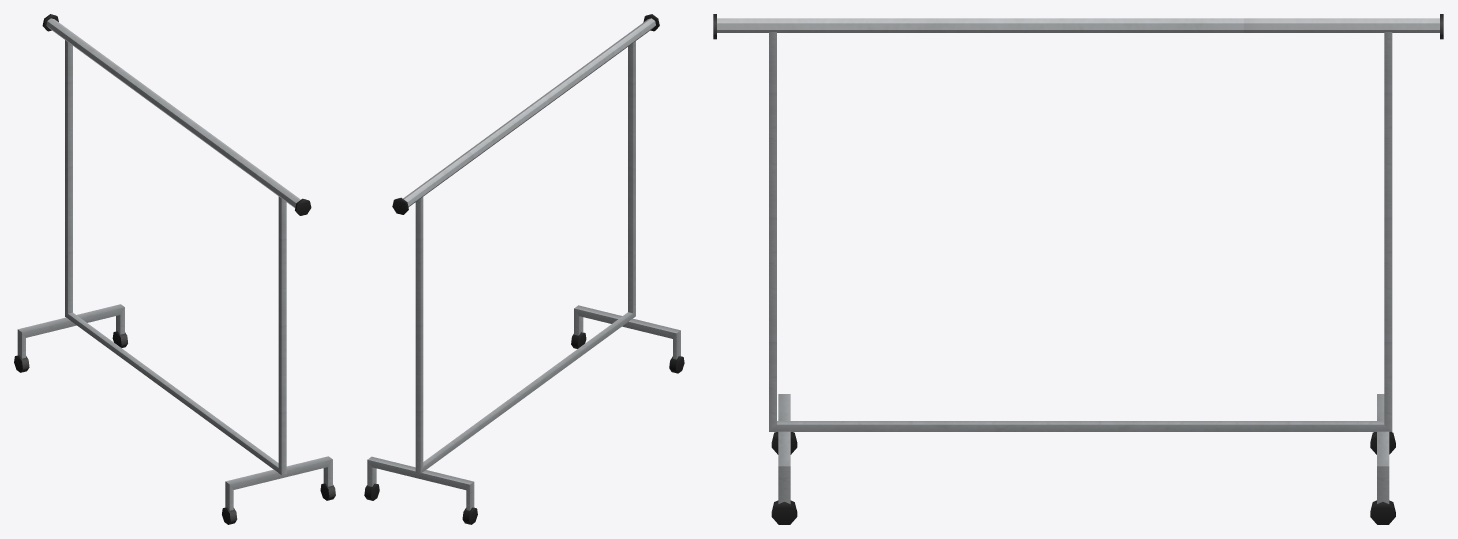
Rendered from Cloth_Rack_01.FBX.
3 views of the same model, side by side, from view 1: azimuth 30°, elevation 25°; view 2: azimuth 150°, elevation 25°; view 3: azimuth 270°, elevation 25° (orthographic). The views are drawn at different scales.
Visible parts, largest first — view 1: Cloth_Rack_01; view 2: Cloth_Rack_01; view 3: Cloth_Rack_01.
Part boxes in pixels (x1=…): Cloth_Rack_01: x1=14, y1=14, x2=335, y2=524; Cloth_Rack_01: x1=364, y1=14, x2=684, y2=524; Cloth_Rack_01: x1=713, y1=14, x2=1443, y2=524.
Size of the model in its own units: 0.47 by 1.96 by 1.4.
